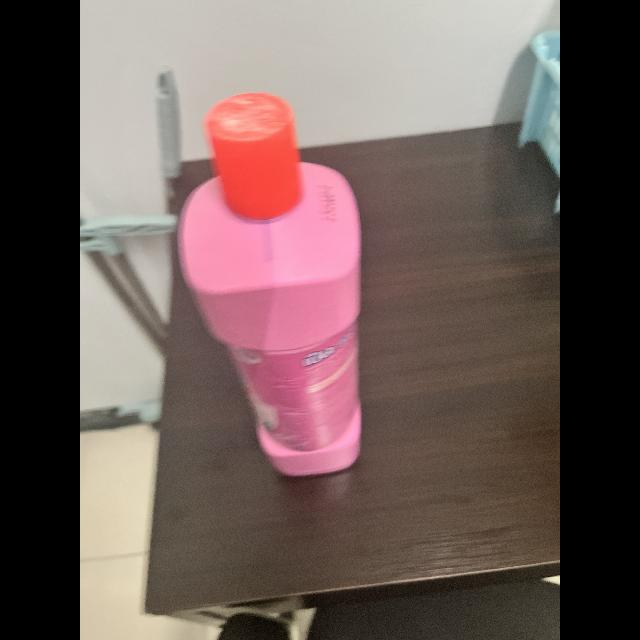chemical_plastic_bottle: (175, 88, 368, 482)
